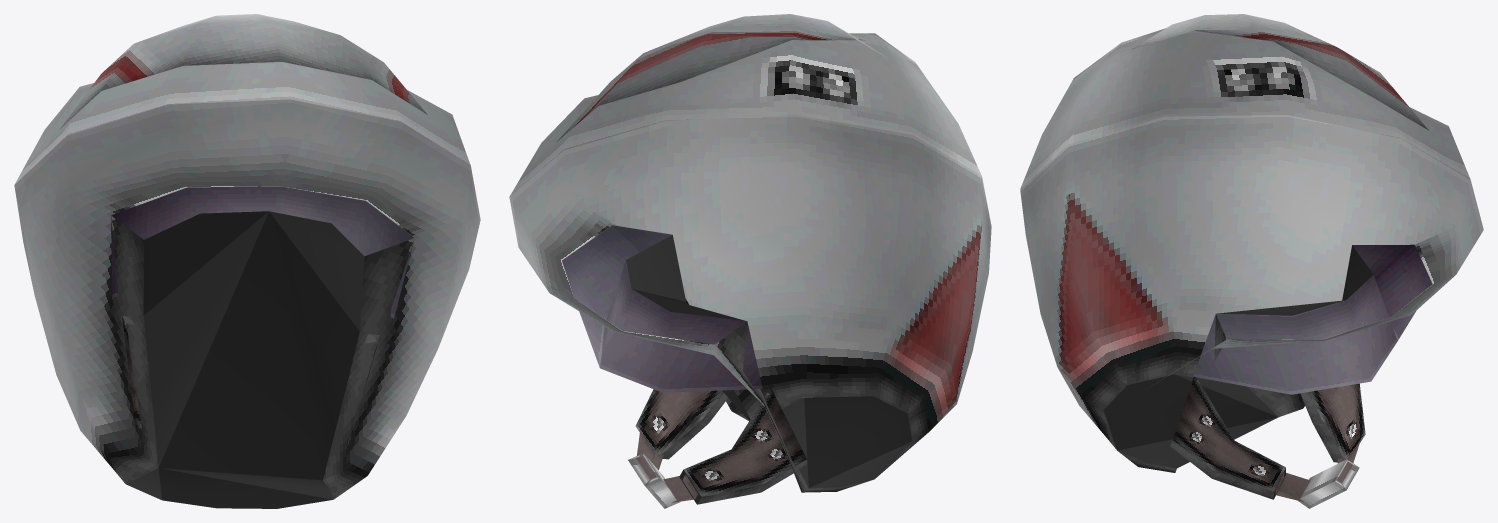
The model's file is ps2_save-icons_globaldefenceforce.glb.
3 views of the same model, side by side, from view 1: azimuth 30°, elevation 25°; view 2: azimuth 150°, elevation 25°; view 3: azimuth 270°, elevation 25° (orthographic). The views are drawn at different scales.
Parts seen in each view (by area): view 1: sandlot.ico; view 2: sandlot.ico; view 3: sandlot.ico.
Boxes of the visible parts, <box> form: sandlot.ico: <box>14,14,480,508</box>; sandlot.ico: <box>509,14,991,508</box>; sandlot.ico: <box>1020,14,1483,508</box>.
Size of the model in its own units: 3.84 by 4.07 by 3.94.
1 material, 1 textured.
